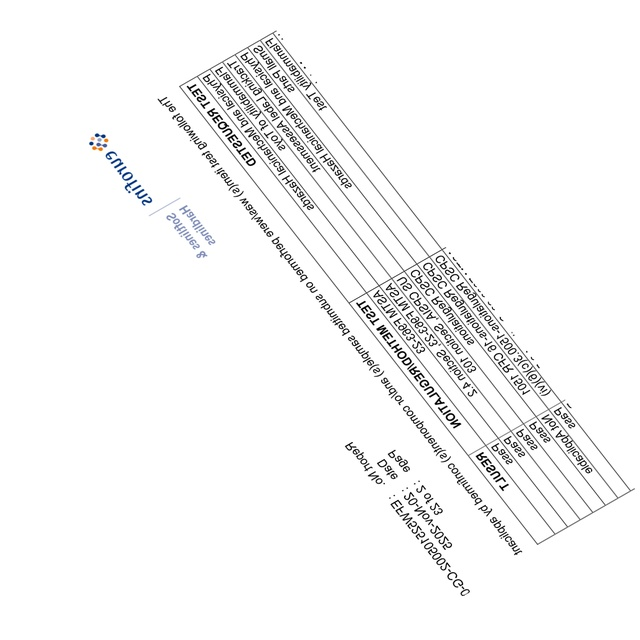eurofins: (85, 128, 156, 209)
